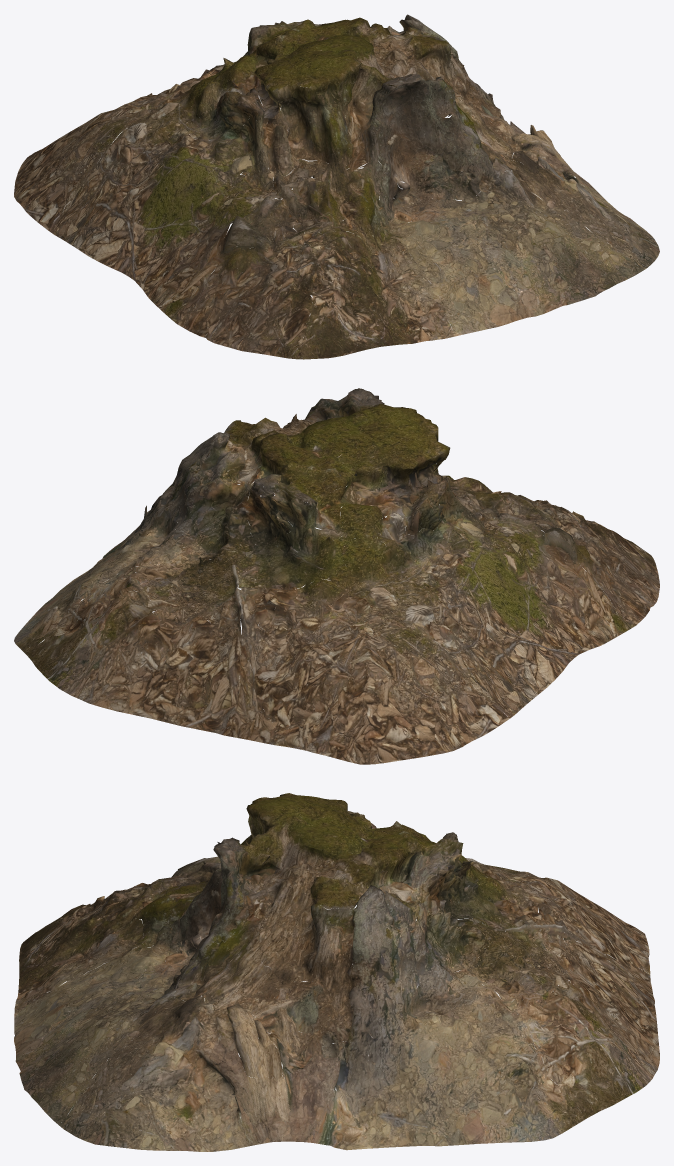
File: tree_stump_01.fbx
The picture shows the model from 3 angles, top to bottom: view 1: azimuth 30°, elevation 25°; view 2: azimuth 150°, elevation 25°; view 3: azimuth 270°, elevation 25°; orthographic projection. The views are drawn at different scales.
Parts seen in each view (by area): view 1: tree_stump_01; view 2: tree_stump_01; view 3: tree_stump_01.
Part boxes in pixels (x1,y1,x2,y2): tree_stump_01: [14, 14, 659, 359]; tree_stump_01: [14, 388, 659, 764]; tree_stump_01: [14, 793, 659, 1151].
Bounding box in the file's own units: 1.42 × 0.5732 × 1.59.
1 material, 1 textured.
